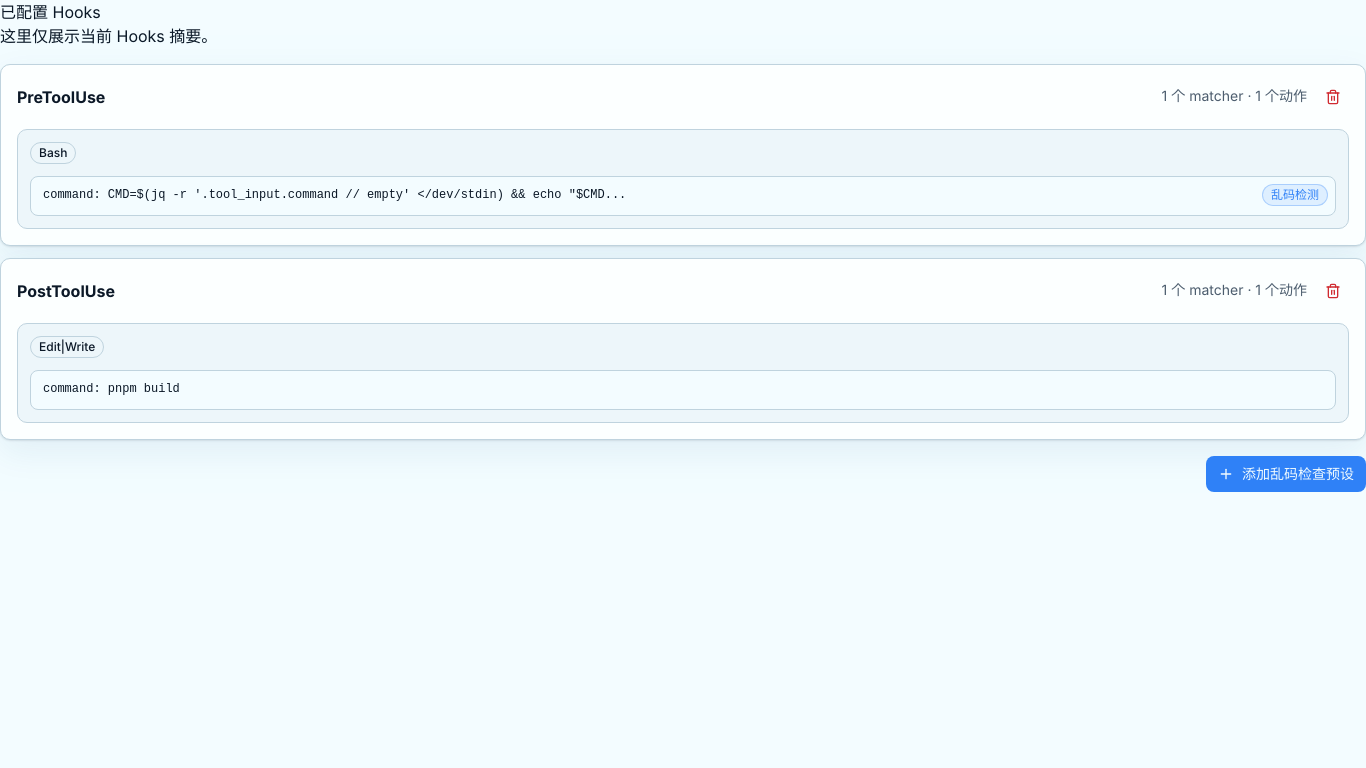
Test case: HooksEditor › confirms before deleting a configured hook event
The width and height of the screenshot is (1366, 768).
Click the button named "删除 Hook PostToolUse" at (1333, 291), box [1317,275,1349,307]
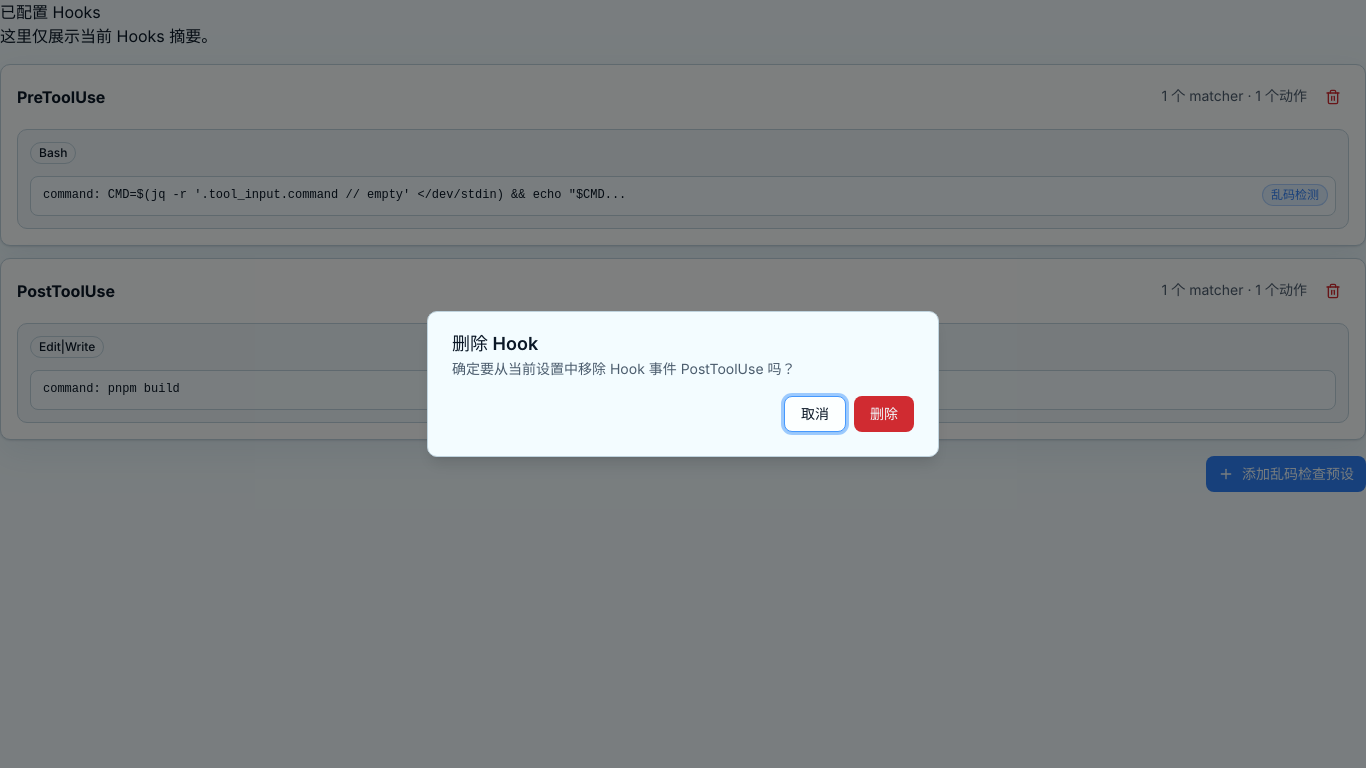
Expected: the text "确定要从当前设置中移除 Hook 事件 PostToolUse 吗？" is shown, [452,360,796,380]
Click the button "取消" at (815, 414), box [784,396,846,432]
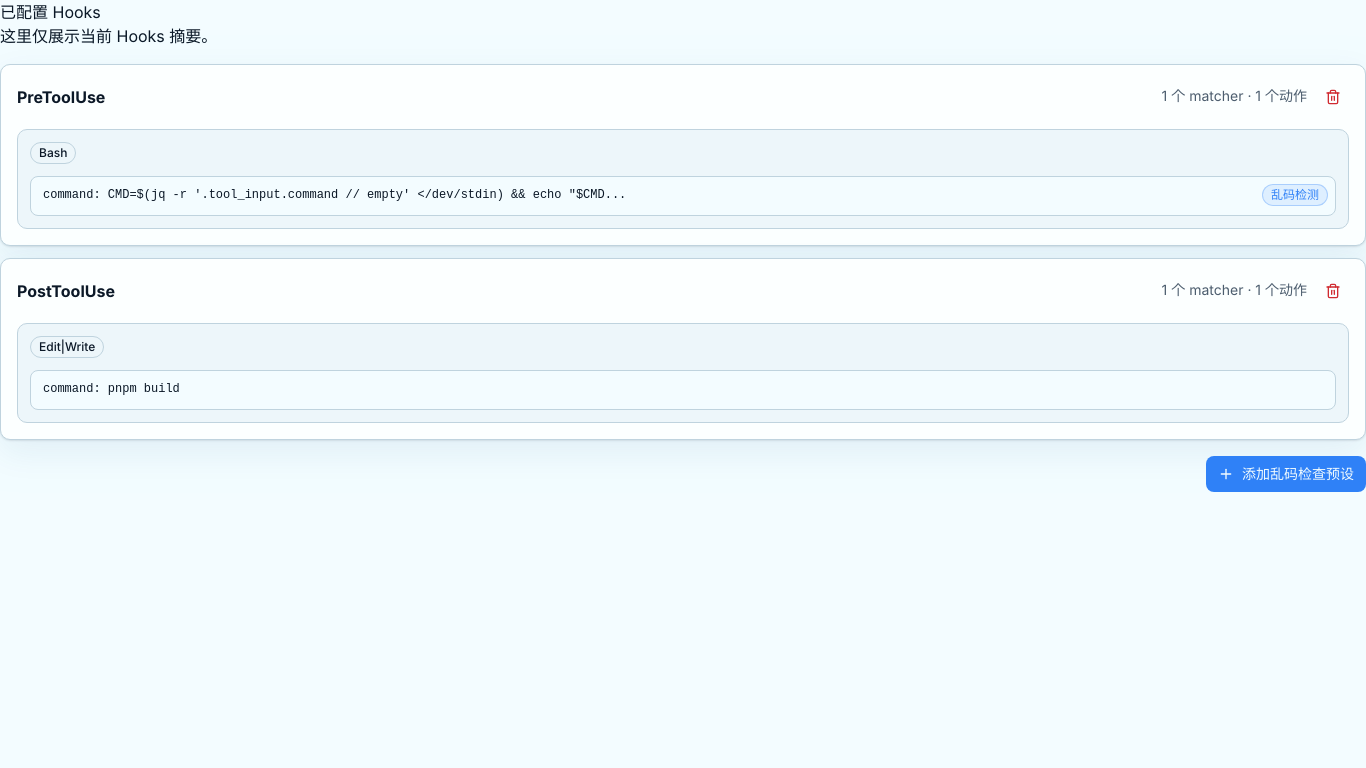
Expected: the text "PostToolUse" is shown, [17,279,115,303]
Expected: the text "确定要从当前设置中移除 Hook 事件 PostToolUse 吗？" is gone
Click the button named "删除 Hook PostToolUse" at (1333, 291), box [1317,275,1349,307]
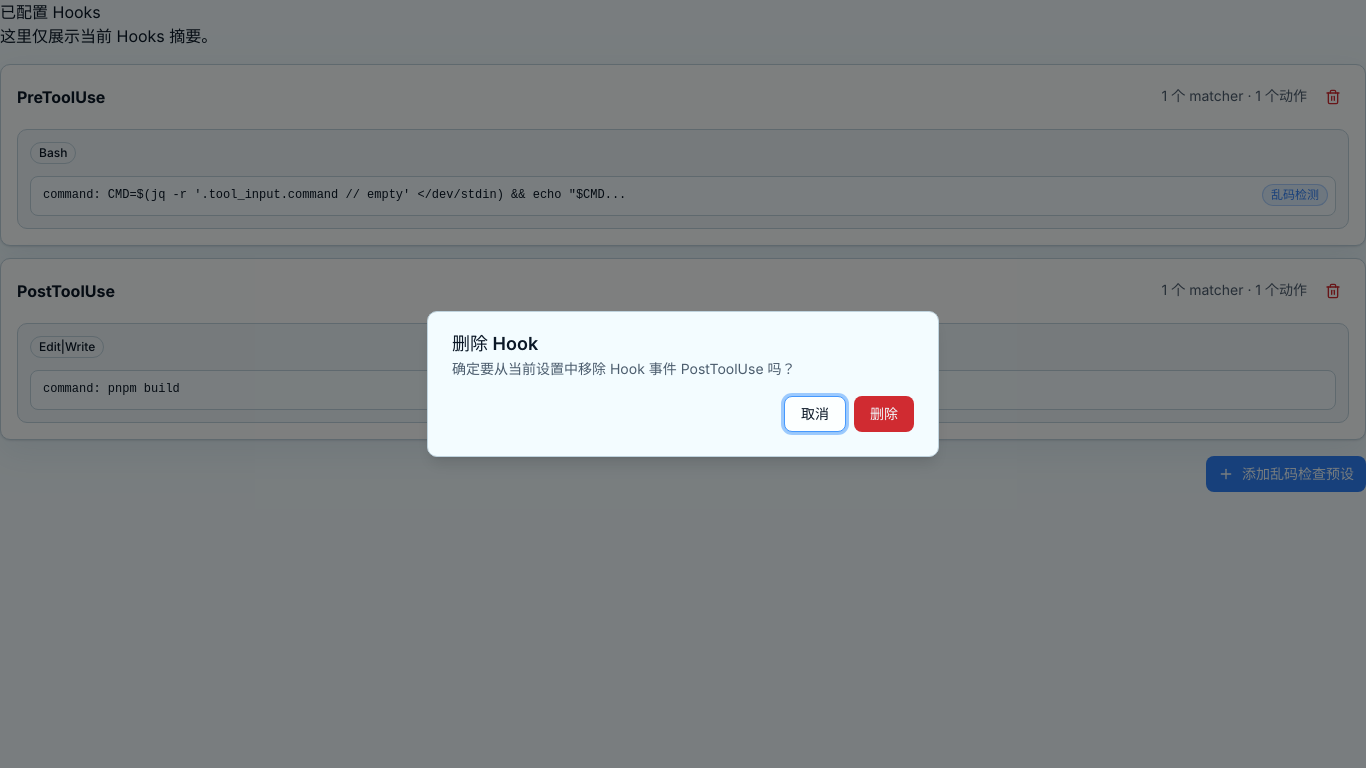
Expected: the text "确定要从当前设置中移除 Hook 事件 PostToolUse 吗？" is shown, [452,360,796,380]
Click the button "删除" at (884, 414), box [854,396,914,432]
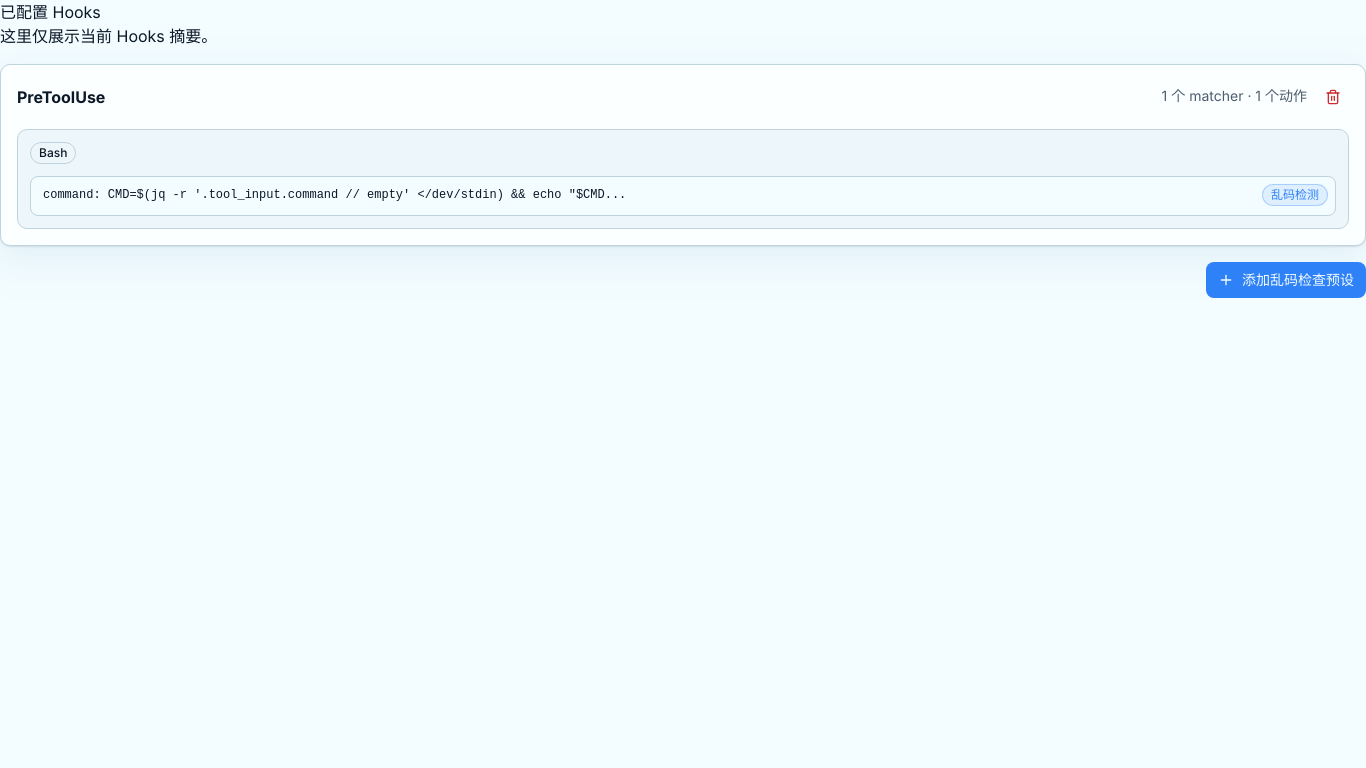
Expected: the text "PreToolUse" is shown, [17,85,105,109]
Expected: the text "PostToolUse" is gone
